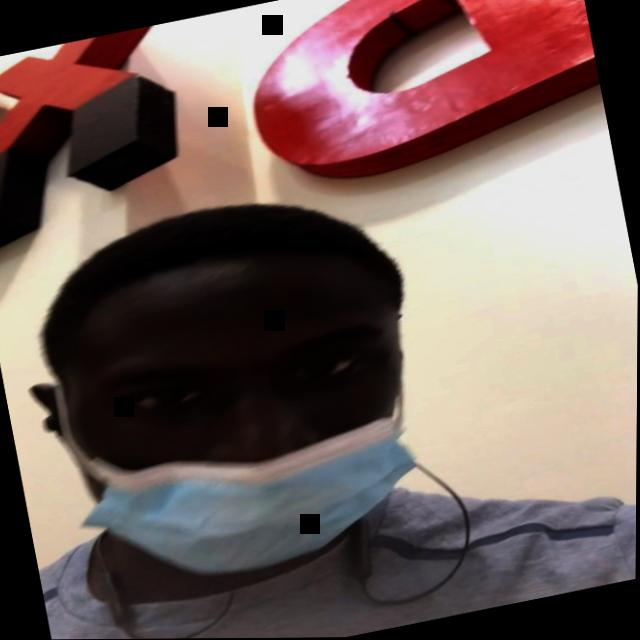Mask: (42, 254, 451, 605)
